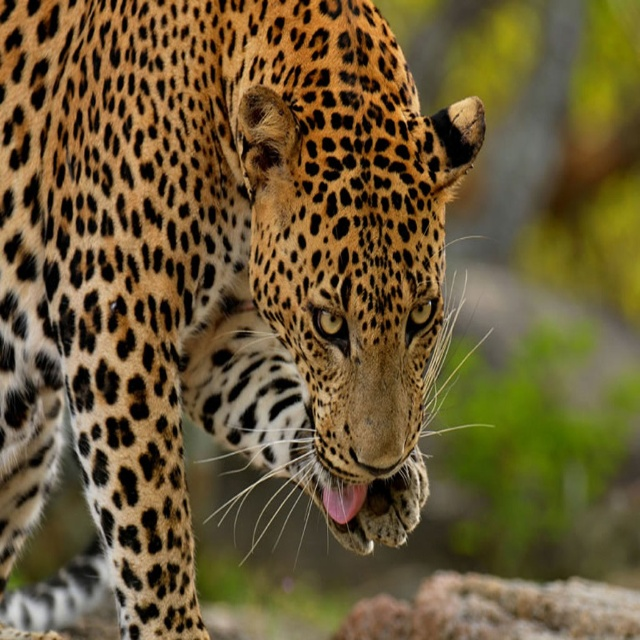Jaguar: (0, 0, 495, 639)
